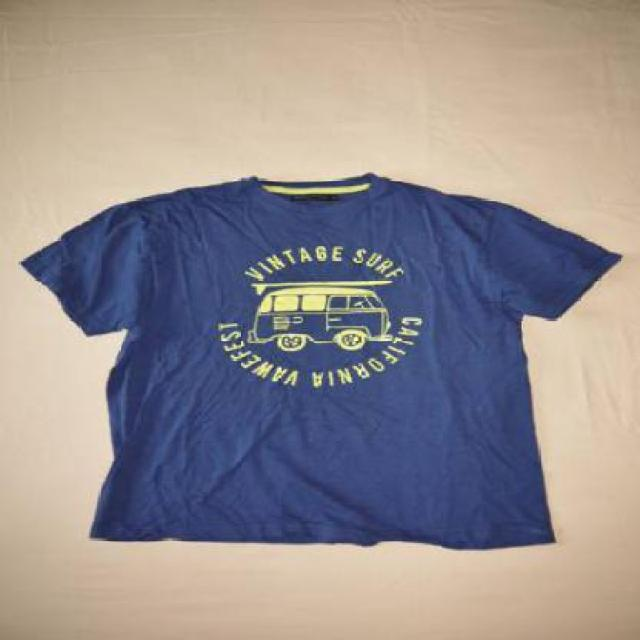shirt: (34, 165, 631, 563)
